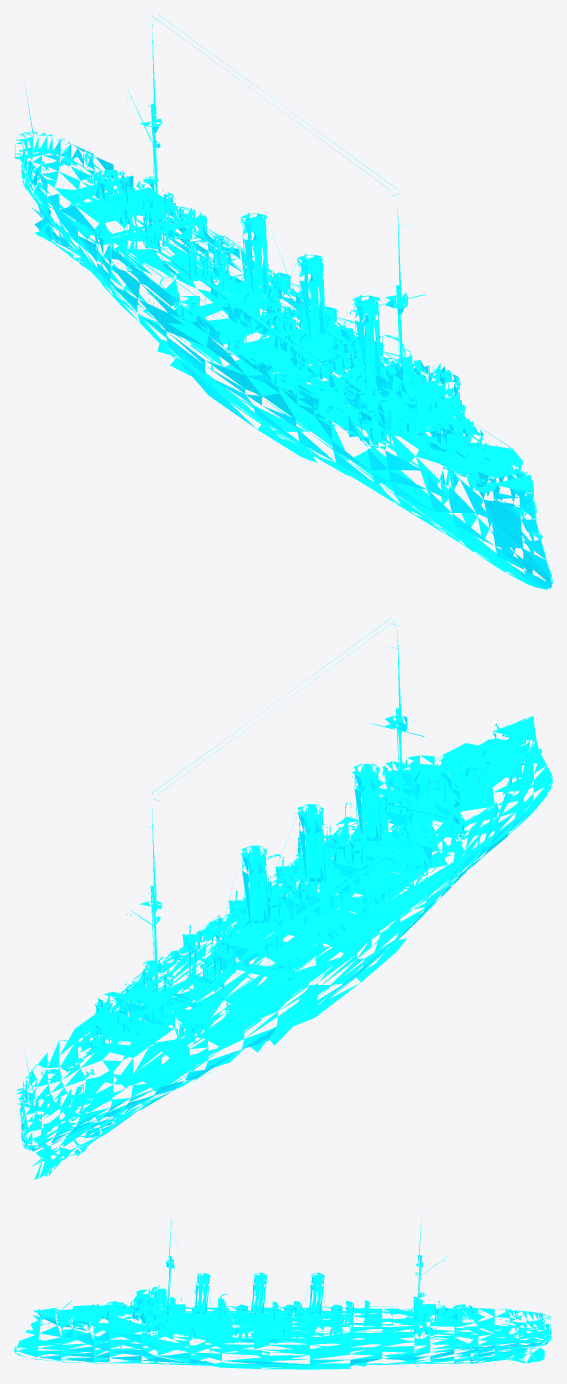
The model's file is PRSC103.glb.
The picture shows the model from 3 angles, top to bottom: view 1: azimuth 30°, elevation 25°; view 2: azimuth 150°, elevation 25°; view 3: azimuth 270°, elevation 25°; orthographic projection. The views are drawn at different scales.
Visible parts, largest first — view 1: hull_mid, hull_bow, hull_stern, main_battery; view 2: hull_mid, hull_bow, hull_stern, main_battery; view 3: hull_mid, hull_bow, hull_stern, main_battery.
Part boxes in pixels (<box>): hull_mid: <box>59,14,475,517</box>; hull_bow: <box>385,424,552,589</box>; hull_stern: <box>14,81,133,270</box>; main_battery: <box>83,163,481,448</box>; hull_mid: <box>59,618,474,1138</box>; hull_bow: <box>389,716,552,897</box>; hull_stern: <box>15,1040,133,1179</box>; main_battery: <box>81,750,482,1045</box>; hull_mid: <box>121,1211,485,1369</box>; hull_bow: <box>14,1301,143,1363</box>; hull_stern: <box>476,1308,551,1363</box>; main_battery: <box>90,1301,487,1338</box>.
Size of the model in its own units: 1.24 by 2.84 by 8.96.
